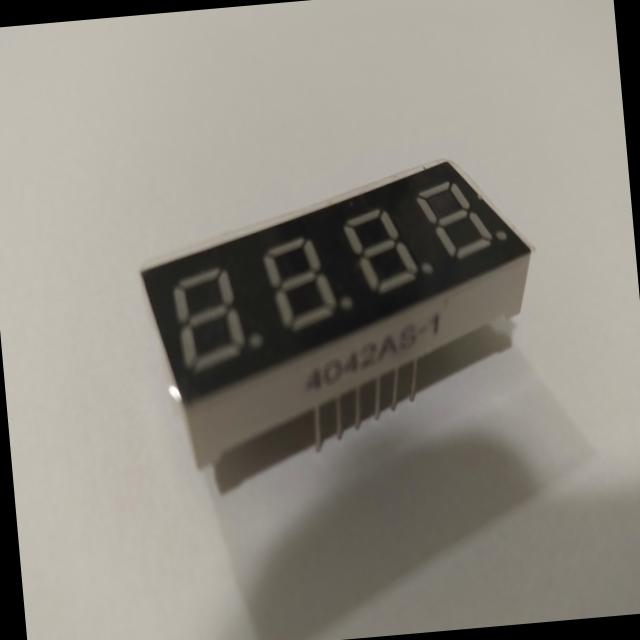7_segments_4_digits: (117, 140, 560, 483)
